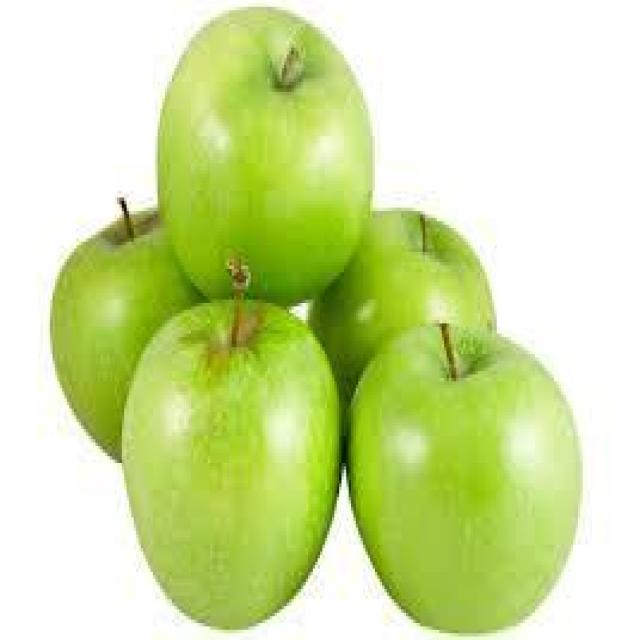maca: (48, 4, 582, 636), (120, 255, 342, 630), (344, 317, 583, 633), (153, 3, 375, 303), (48, 194, 203, 460)
